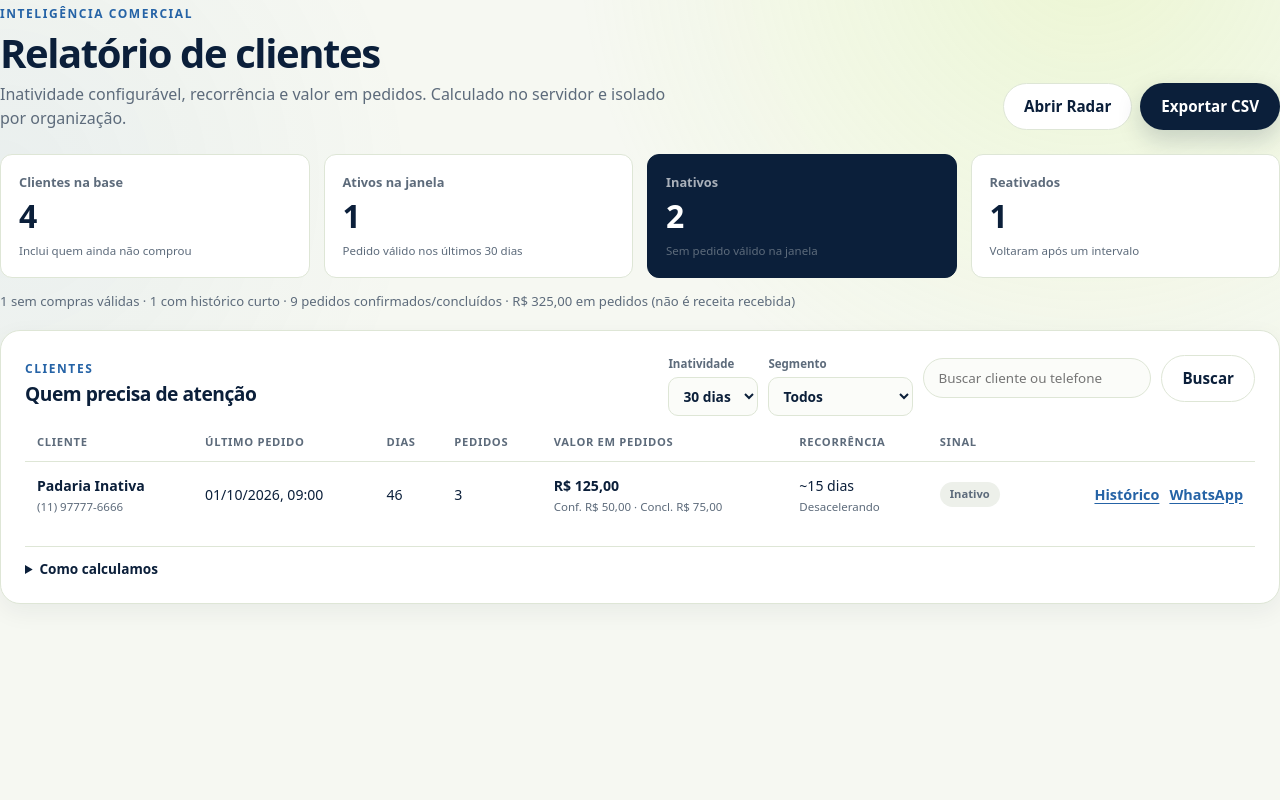
Test: relatório de clientes › mostra métricas, valor em pedidos e histórico do cliente
expect the text "Padaria Inativa" is shown: met, box [37,476,145,494]
expect the text "Inativo" is shown: met, box [940,482,1000,507]
Click the button "Histórico".
click(1127, 495)  # box [1094,484,1159,506]
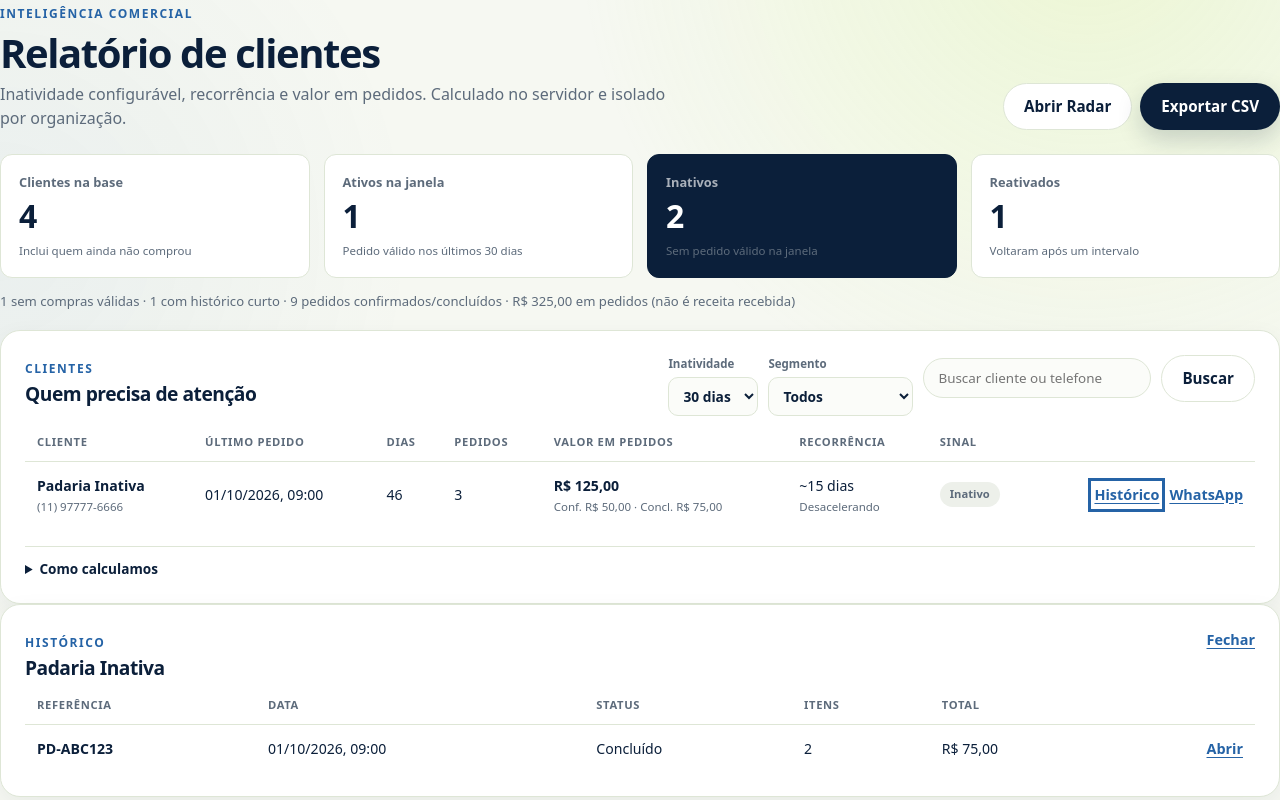
expect the text "PD-ABC123" is shown: met, box [37,739,113,758]
